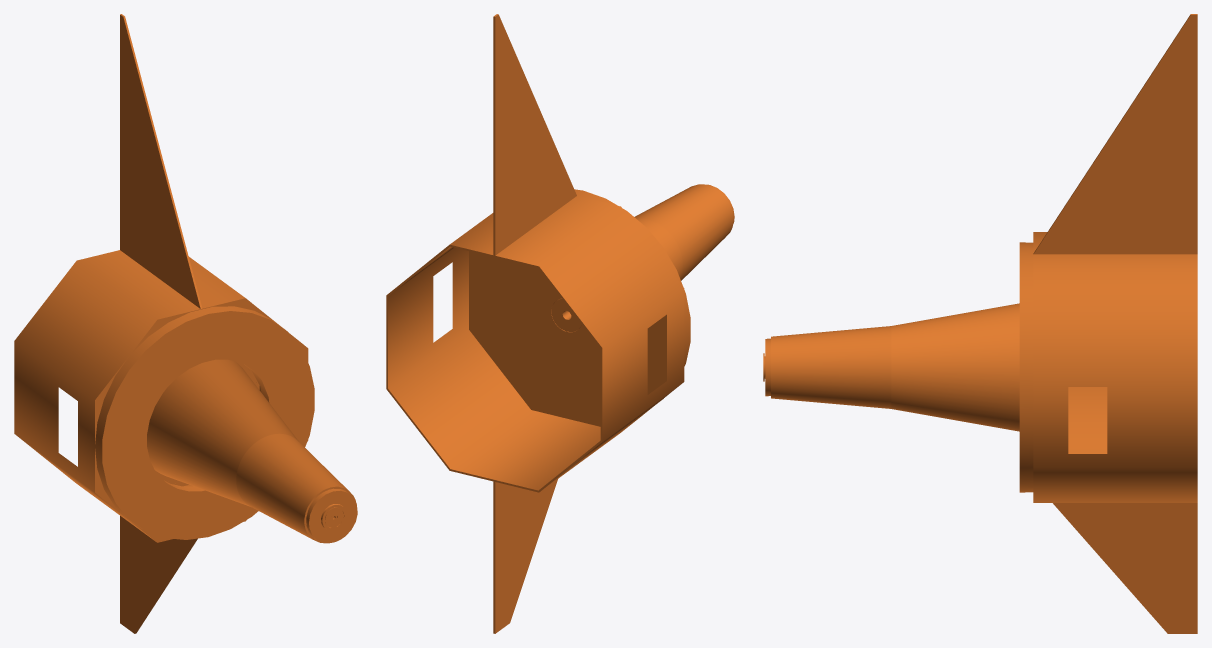
The model's file is ABSO.glb.
3 renders of one model, left to right at view 1: azimuth 30°, elevation 25°; view 2: azimuth 150°, elevation 25°; view 3: azimuth 270°, elevation 25°, orthographic.
Bounding box in the file's own units: 360 × 982 × 625.
